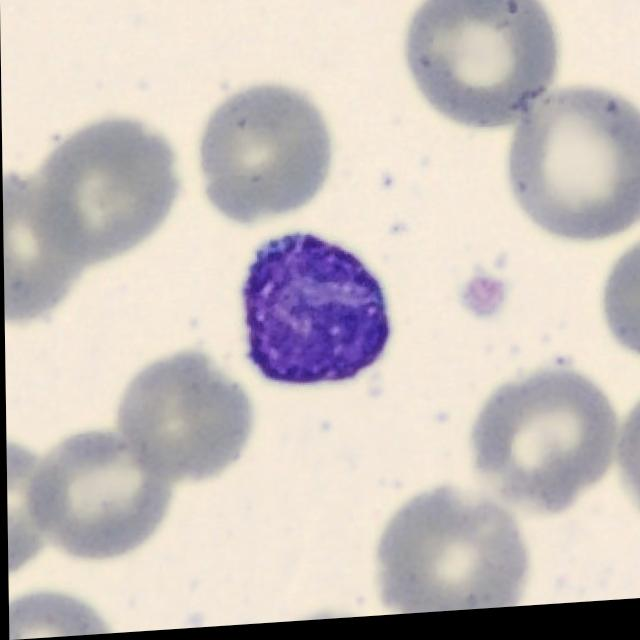Linfocito: (242, 237, 391, 391)
